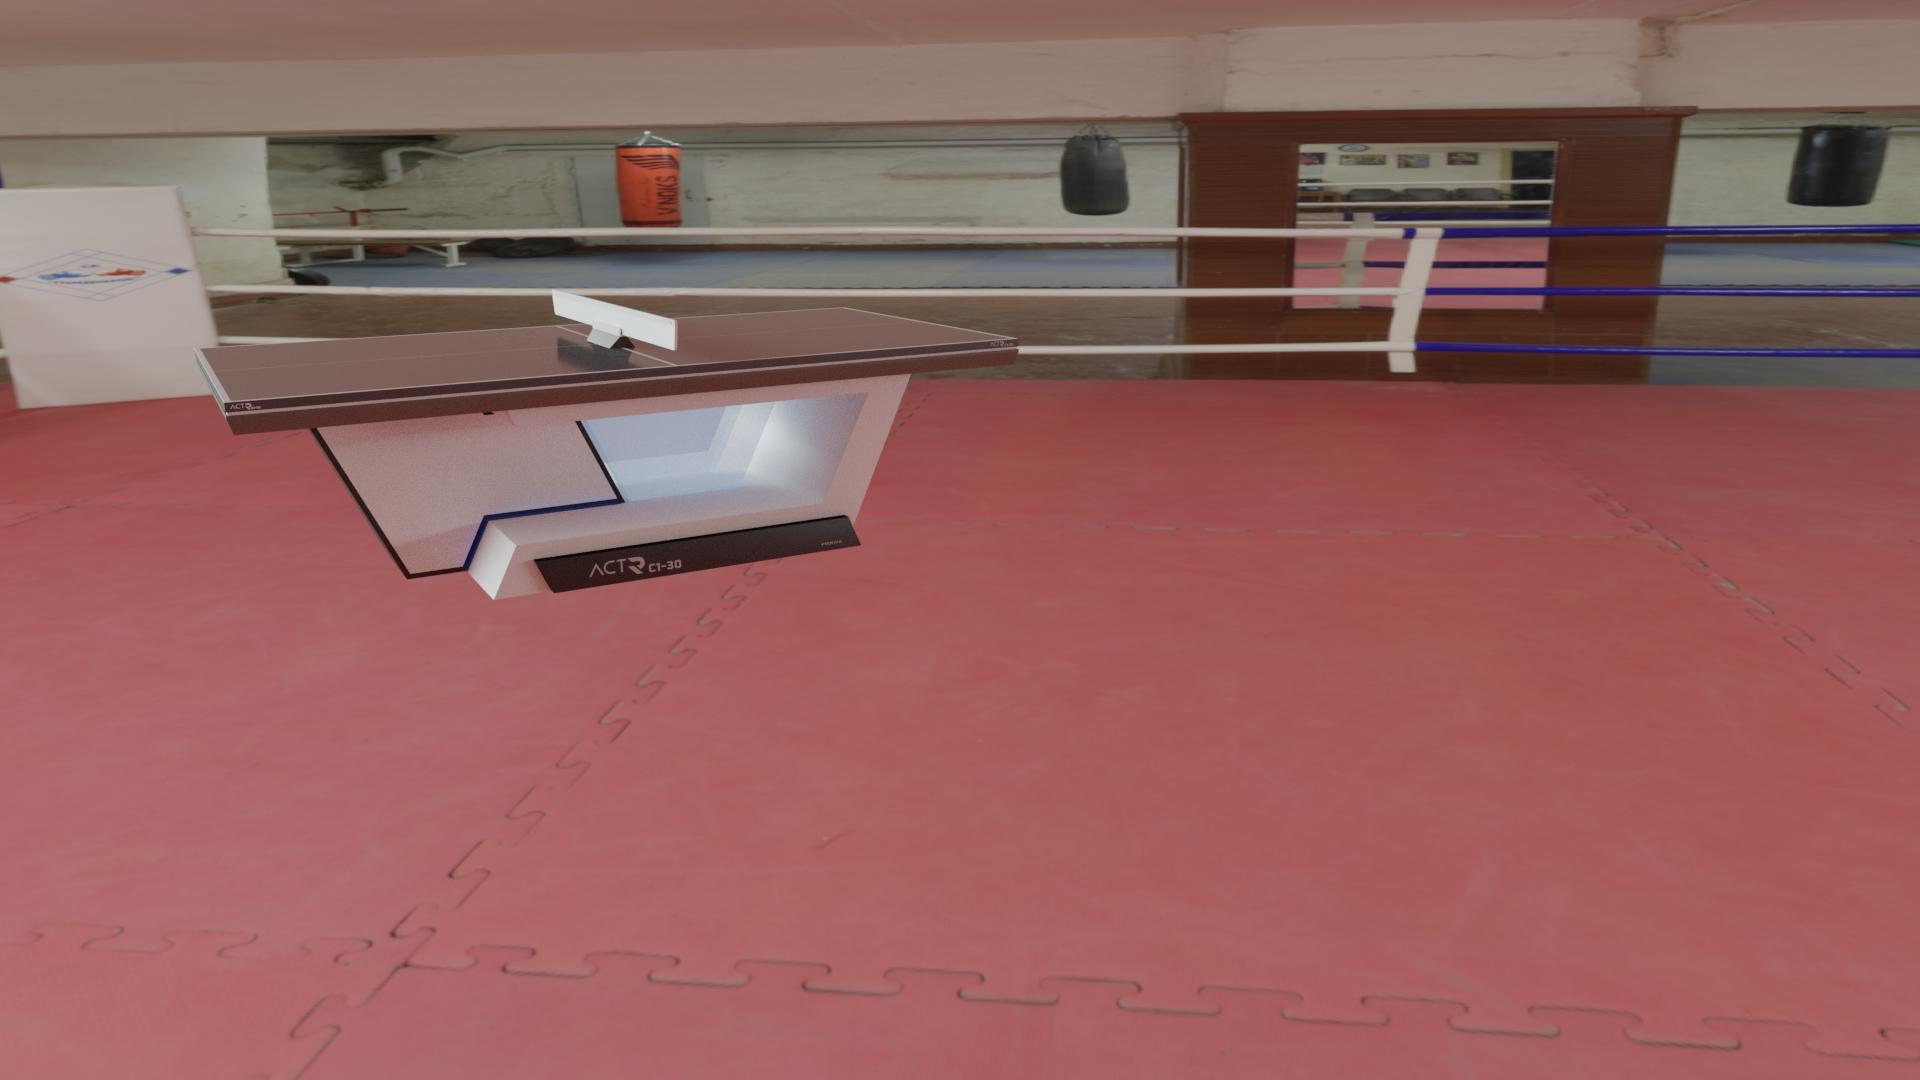table: (200, 307, 1011, 401)
